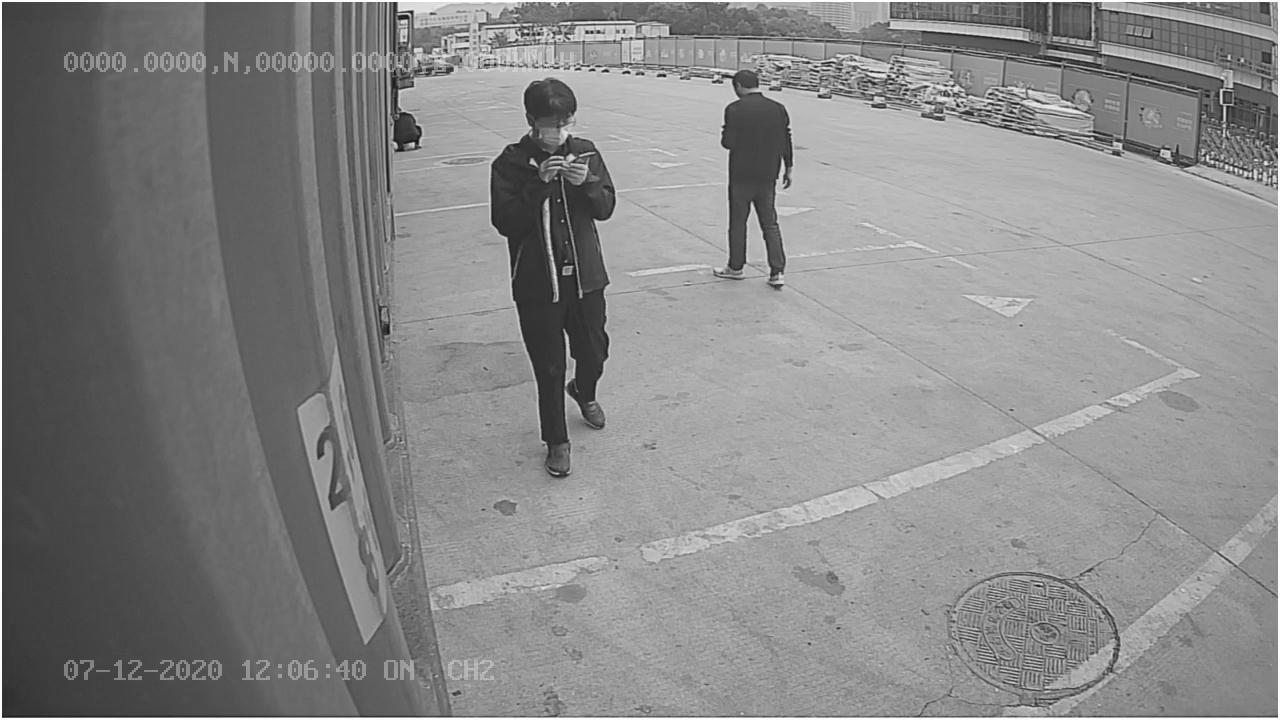person: (486, 73, 617, 473), (710, 63, 797, 285)
